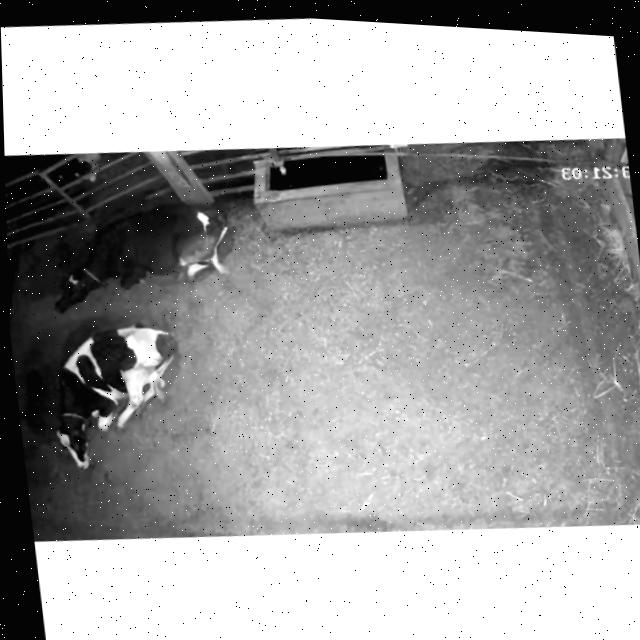lay: (20, 300, 222, 494), (27, 174, 254, 331)
